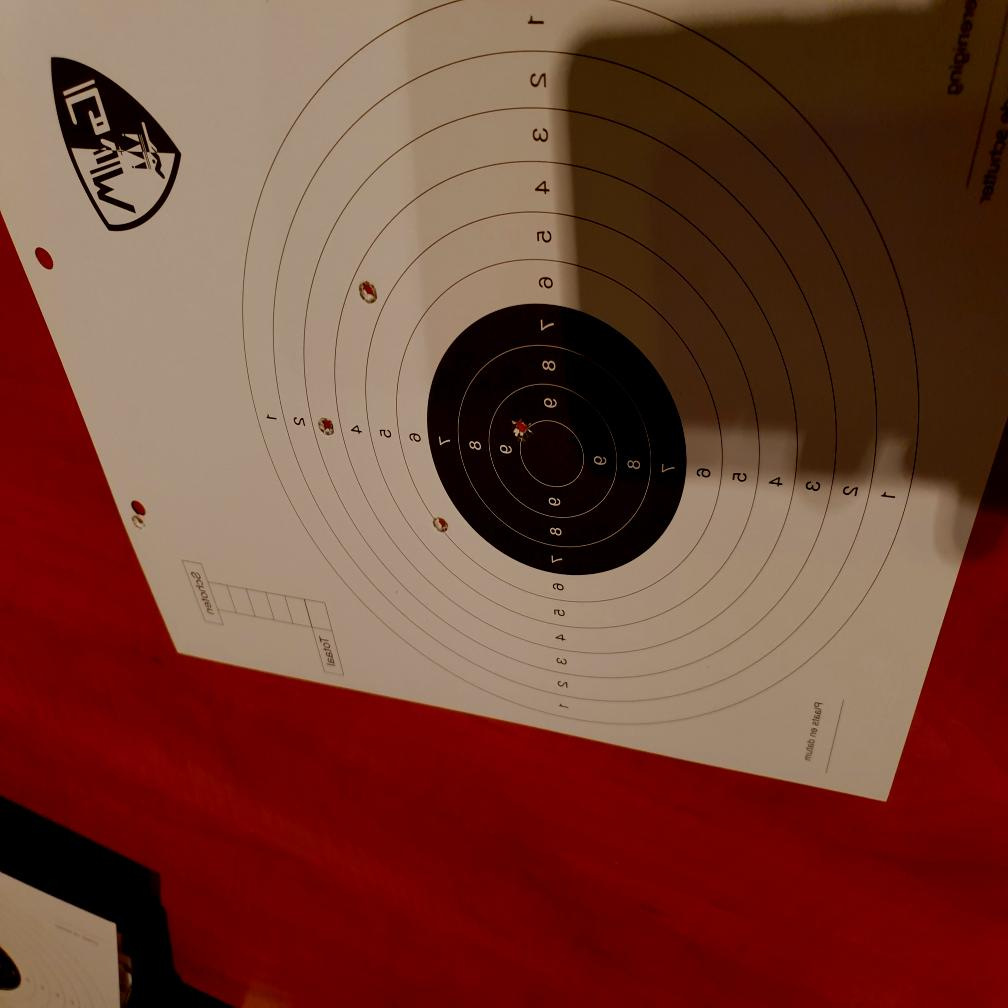0: (430, 514, 450, 537), (131, 516, 149, 534)
10: (508, 416, 530, 442)
3: (312, 416, 337, 442)
4: (352, 278, 378, 308)
Target: (244, 0, 923, 723)
black_contour: (428, 304, 688, 576)
